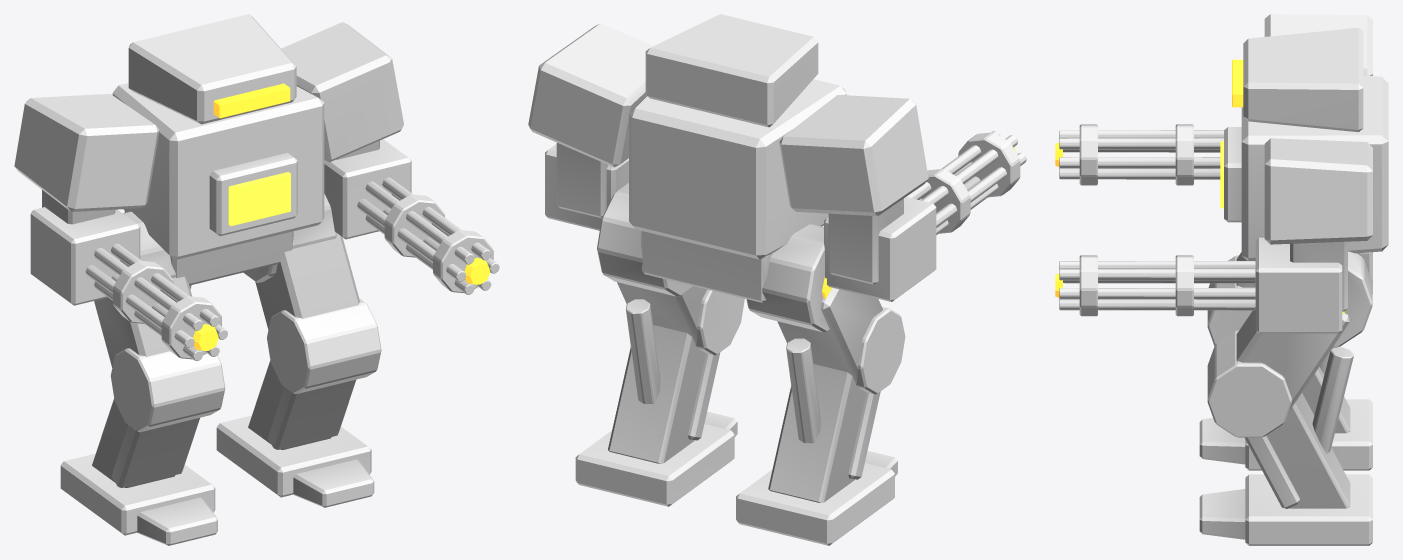
Rendered from e4_canyon_walker.glb.
The picture shows the model from 3 angles, left to right: view 1: azimuth 30°, elevation 25°; view 2: azimuth 150°, elevation 25°; view 3: azimuth 270°, elevation 25°; orthographic projection. The views are drawn at different scales.
Visible parts, largest first — view 1: Torso, Pauldron_L, HeadSlab, Pauldron_R, Leg_R1_Knee, Leg_L1_Knee, Gat_L_Housing, Leg_R1_Thigh, Leg_L1_Foot, Leg_R1_Foot, Gat_R_Housing, Leg_L1_ShinPlate (+23 smaller); view 2: Torso, Pauldron_L, HeadSlab, Pauldron_R, Leg_L1_Shin, Leg_R1_Shin, Leg_R1_Foot, Leg_L1_Foot, Gat_L_Housing, Leg_L1_Hip, Pelvis, Leg_L1_Thigh (+16 smaller); view 3: HeadSlab, Pauldron_R, Torso, Gat_R_Housing, Leg_R1_Foot, Leg_R1_Knee, Leg_R1_Shin, Leg_R1_Thigh, Leg_L1_Foot, Pauldron_L, Leg_R1_Piston, Leg_R1_ToeF (+22 smaller).
Boxes of the visible parts, bbox=[...] form: Torso: bbox=[112, 83, 324, 259]; Pauldron_L: bbox=[14, 94, 159, 211]; HeadSlab: bbox=[128, 14, 296, 124]; Pauldron_R: bbox=[281, 22, 403, 162]; Leg_R1_Knee: bbox=[267, 298, 381, 393]; Leg_L1_Knee: bbox=[110, 348, 225, 432]; Gat_L_Housing: bbox=[30, 207, 140, 305]; Leg_R1_Thigh: bbox=[255, 233, 359, 329]; Leg_L1_Foot: bbox=[60, 453, 215, 535]; Leg_R1_Foot: bbox=[216, 415, 371, 497]; Gat_R_Housing: bbox=[324, 139, 411, 239]; Leg_L1_ShinPlate: bbox=[111, 418, 199, 487]; Torso: bbox=[629, 79, 846, 259]; Pauldron_L: bbox=[779, 95, 928, 216]; HeadSlab: bbox=[645, 14, 818, 127]; Pauldron_R: bbox=[528, 23, 653, 167]; Leg_L1_Shin: bbox=[768, 364, 866, 502]; Leg_R1_Shin: bbox=[608, 325, 705, 463]; Leg_R1_Foot: bbox=[575, 424, 734, 506]; Leg_L1_Foot: bbox=[736, 463, 894, 545]; Gat_L_Housing: bbox=[824, 197, 936, 301]; Leg_L1_Hip: bbox=[746, 224, 829, 332]; Pelvis: bbox=[641, 231, 772, 302]; Leg_L1_Thigh: bbox=[777, 287, 882, 383]; HeadSlab: bbox=[1243, 27, 1363, 132]; Pauldron_R: bbox=[1264, 138, 1372, 244]; Torso: bbox=[1241, 75, 1388, 260]; Gat_R_Housing: bbox=[1255, 237, 1342, 333]; Leg_R1_Foot: bbox=[1245, 474, 1372, 545]; Leg_R1_Knee: bbox=[1207, 330, 1291, 437]; Leg_R1_Shin: bbox=[1266, 393, 1350, 508]; Leg_R1_Thigh: bbox=[1236, 310, 1349, 412]; Leg_L1_Foot: bbox=[1245, 399, 1372, 470]; Pauldron_L: bbox=[1264, 14, 1372, 75]; Leg_R1_Piston: bbox=[1312, 347, 1353, 453]; Leg_R1_ToeF: bbox=[1199, 489, 1245, 539].
Size of the model in its own units: 2.38 by 2.9 by 2.02.
